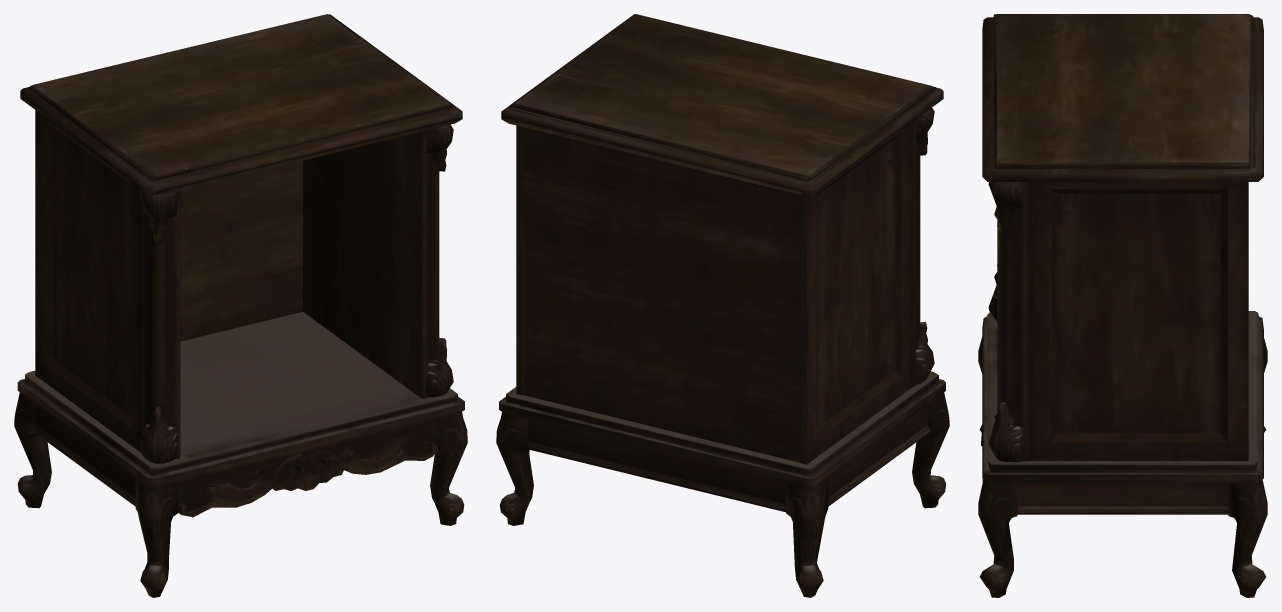
File: ClassicNightstand_01.glb
3 renders of one model, left to right at view 1: azimuth 30°, elevation 25°; view 2: azimuth 150°, elevation 25°; view 3: azimuth 270°, elevation 25°, orthographic. The views are drawn at different scales.
Visible parts, largest first — view 1: ClassicNightstand_01; view 2: ClassicNightstand_01; view 3: ClassicNightstand_01.
Boxes of the visible parts, x1,y1,x2,y2 form: ClassicNightstand_01: (14, 14, 467, 597); ClassicNightstand_01: (496, 14, 949, 597); ClassicNightstand_01: (978, 14, 1267, 597).
Bounding box in the file's own units: 0.5678 × 0.7 × 0.4242.
1 material, 1 textured.
